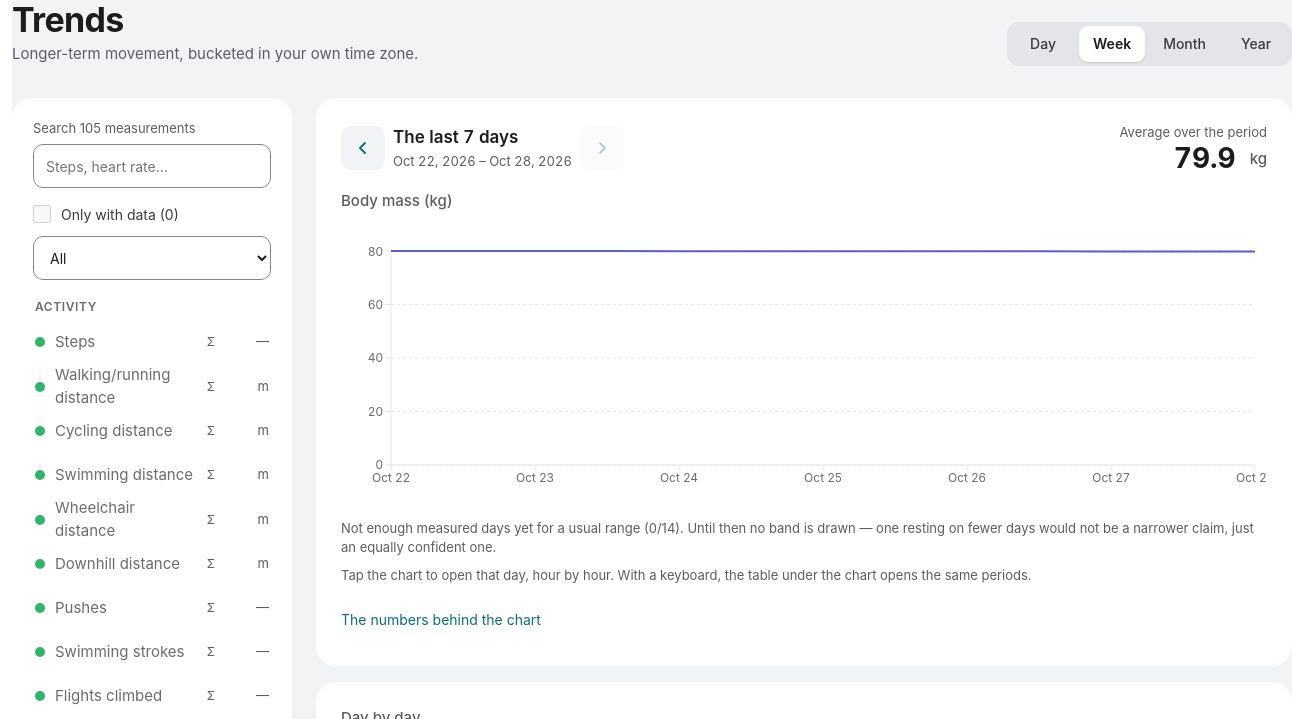
Scenario: the body-mass trend card › sends the yearly view to the month, in the app’s words
The width and height of the screenshot is (1292, 719).
Click the button "Year": (1256, 44) [1224,26,1288,62]
(page scrolled)
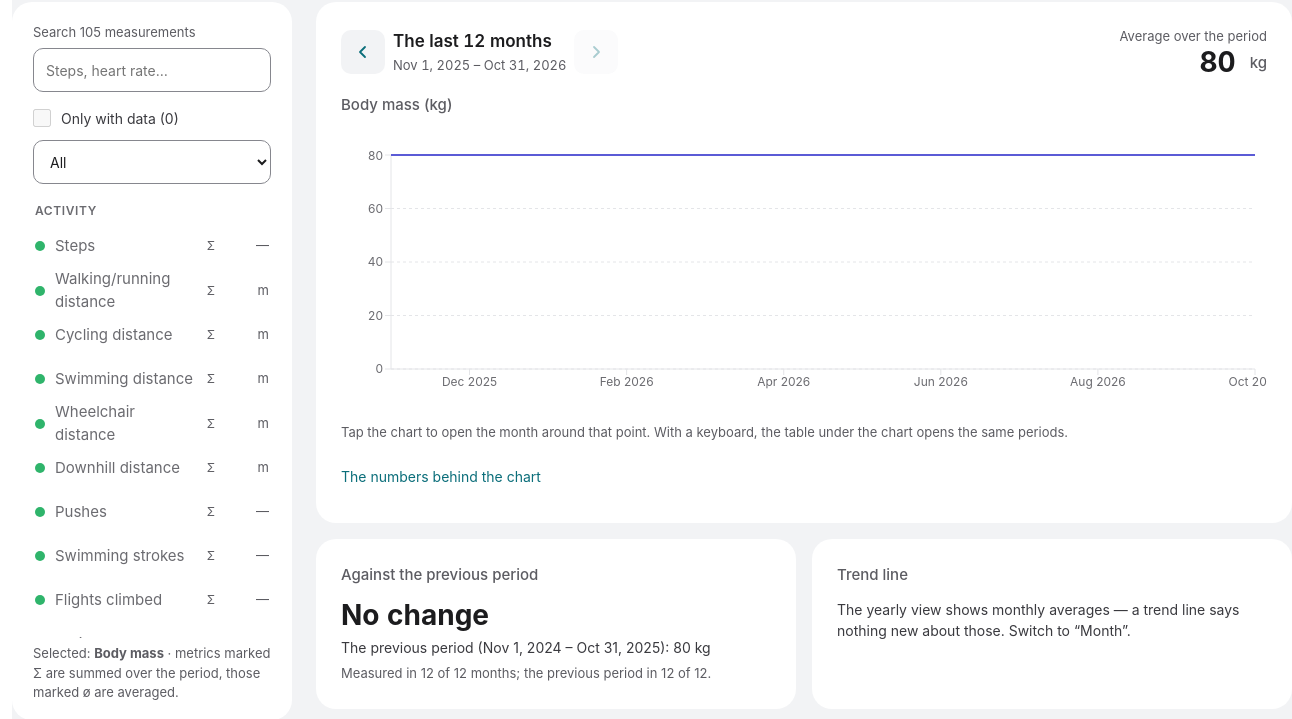
expect the text "monthly averages — a trend line says nothing new" is shown: met, box [837,601,1240,639]
